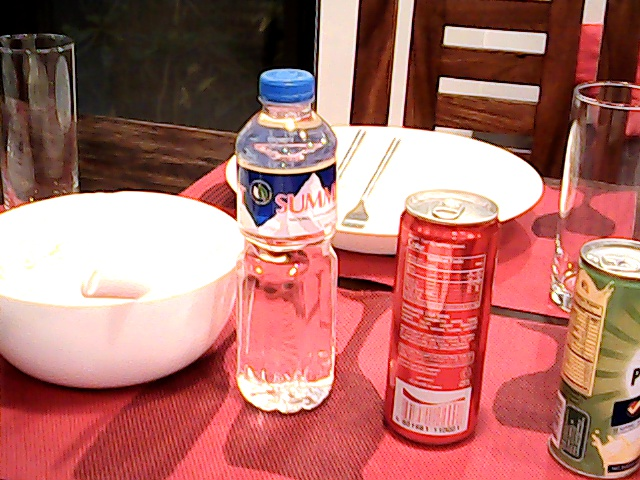Cola: (386, 189, 498, 451)
Pine Juice: (558, 236, 640, 480)
Summit Water: (228, 64, 346, 421)
